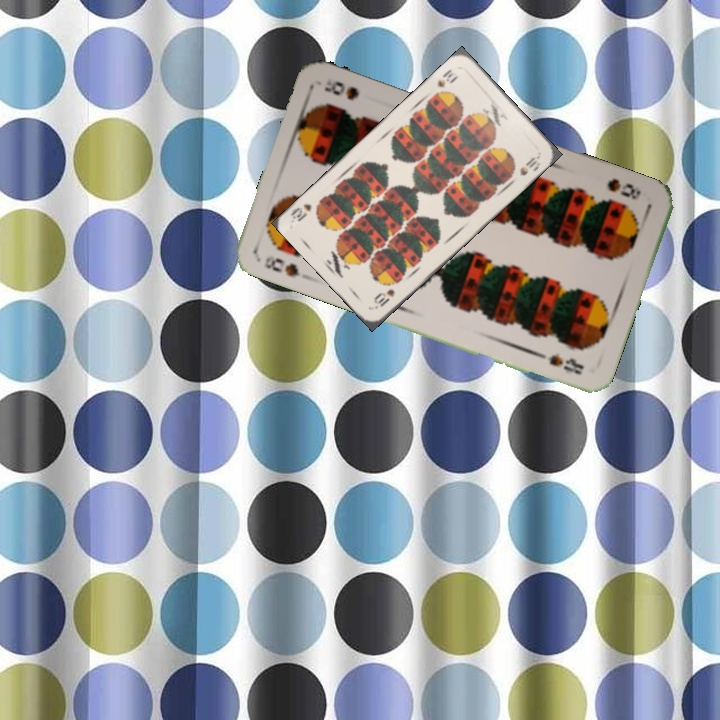S10: (432, 65, 461, 90), (370, 285, 397, 311)
S8: (260, 251, 303, 280), (603, 174, 644, 202)
